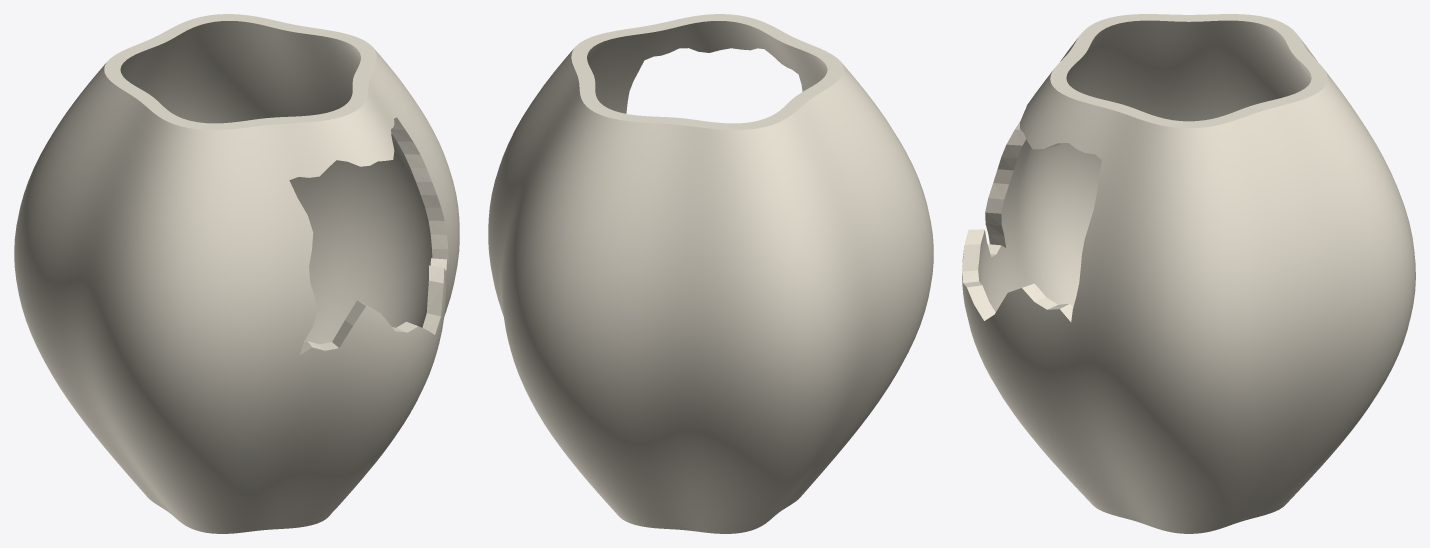
Rendered from museum-conservation-and-art-restoration-museum-conserv-9172cc18.glb.
3 renders of one model, left to right at view 1: azimuth 30°, elevation 25°; view 2: azimuth 150°, elevation 25°; view 3: azimuth 270°, elevation 25°, orthographic.
Parts seen in each view (by area): view 1: museum-conservation-and-art-restoration-original-fractured-c; view 2: museum-conservation-and-art-restoration-original-fractured-c; view 3: museum-conservation-and-art-restoration-original-fractured-c.
Part boxes in pixels (x1,y1,x2,y2): museum-conservation-and-art-restoration-original-fractured-c: [14, 14, 459, 533]; museum-conservation-and-art-restoration-original-fractured-c: [488, 14, 933, 533]; museum-conservation-and-art-restoration-original-fractured-c: [962, 14, 1415, 533].
Bounding box in the file's own units: 0.6451 × 0.68 × 0.6617.
